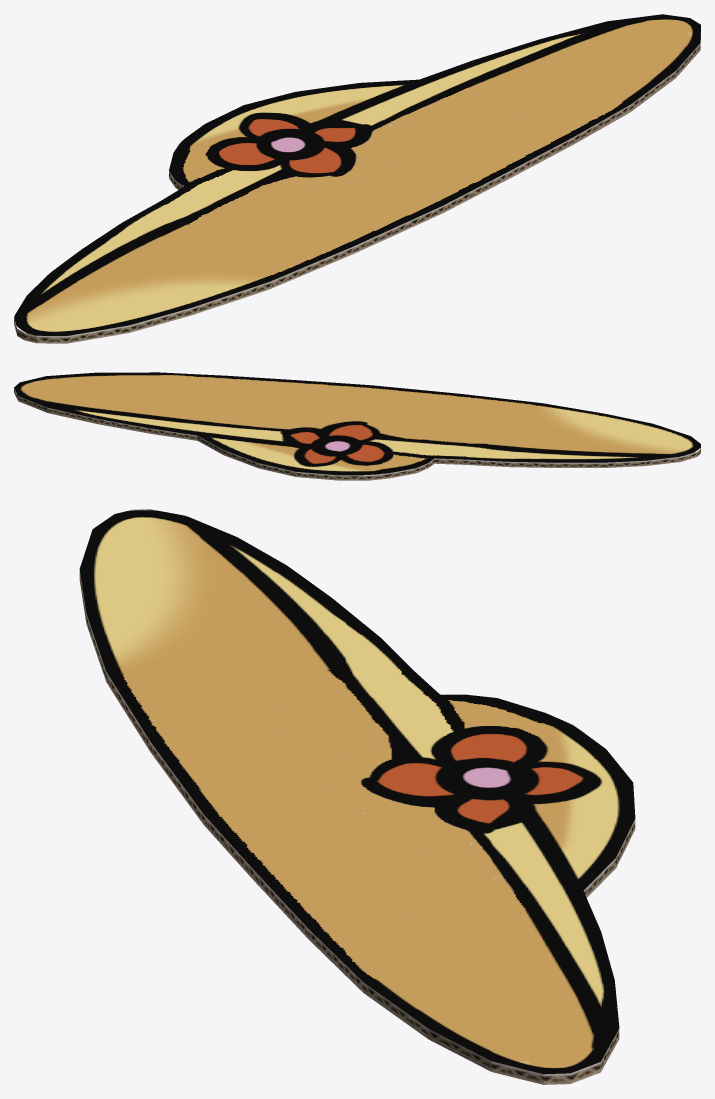
File: hat.fbx
3 renders of one model, top to bottom at view 1: azimuth 30°, elevation 25°; view 2: azimuth 150°, elevation 25°; view 3: azimuth 270°, elevation 25°, orthographic. The views are drawn at different scales.
Parts seen in each view (by area): view 1: Cube; view 2: Cube; view 3: Cube.
Part boxes in pixels (x1,y1,x2,y2): Cube: (14, 14, 700, 343); Cube: (14, 372, 700, 480); Cube: (79, 509, 635, 1084).
Size of the model in its own units: 453 by 4 by 188.
